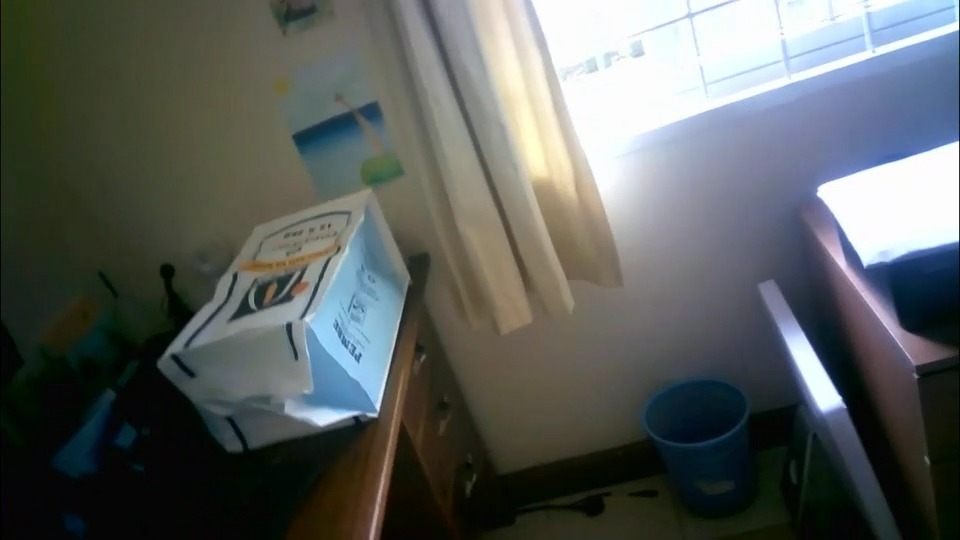wheat_flour_blue_label: (158, 191, 408, 449)
